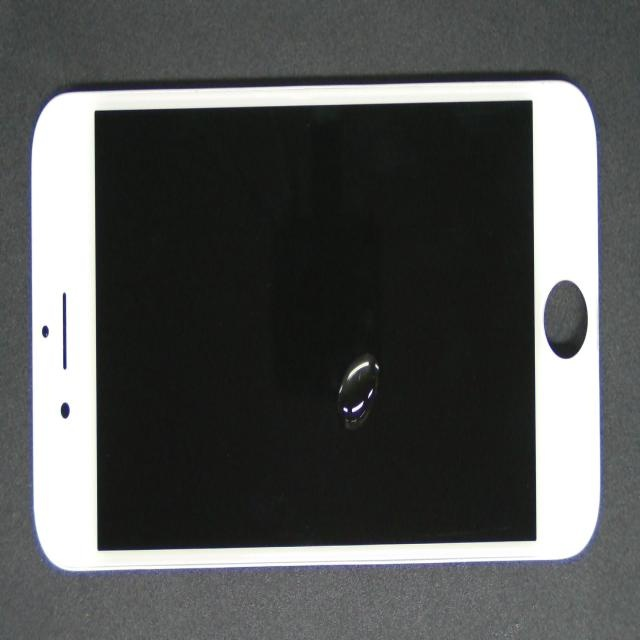oil: (201, 209, 579, 557)
